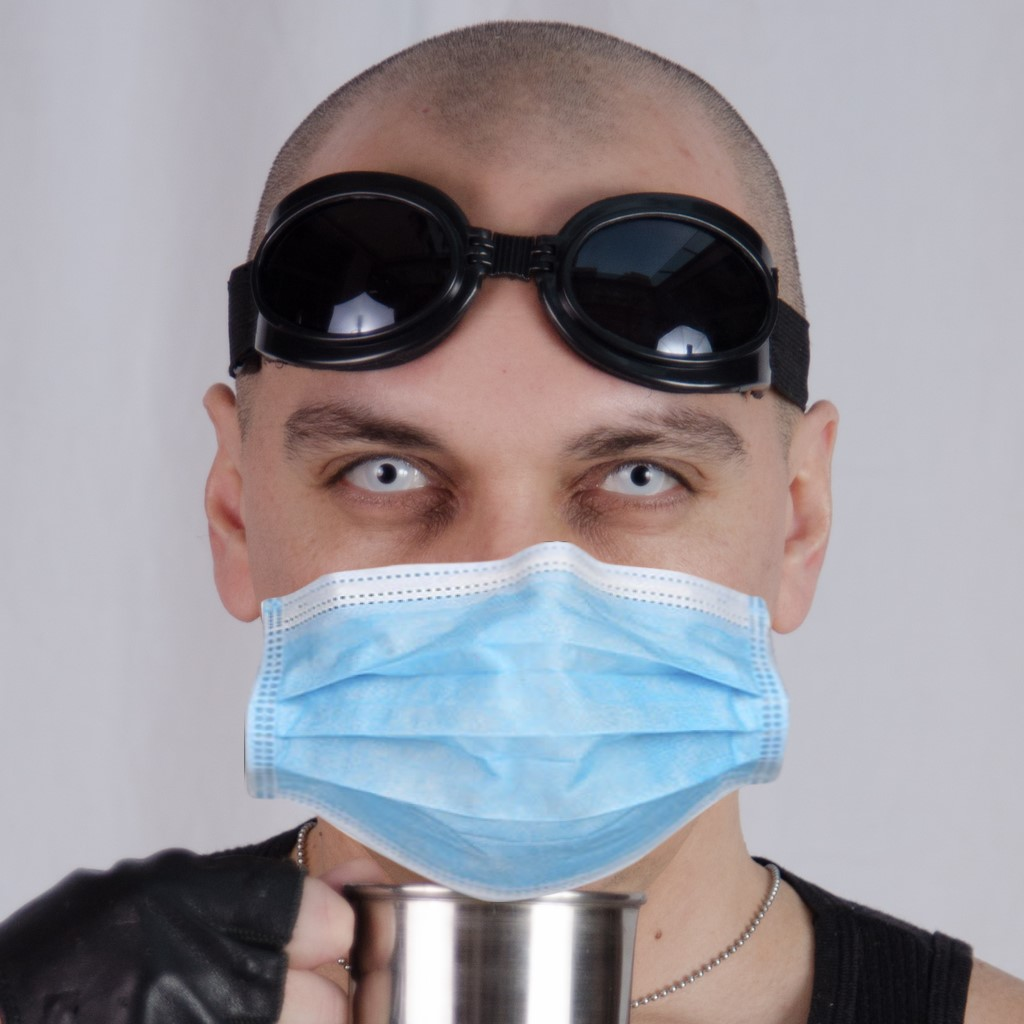con_mascara: (258, 105, 811, 919)
